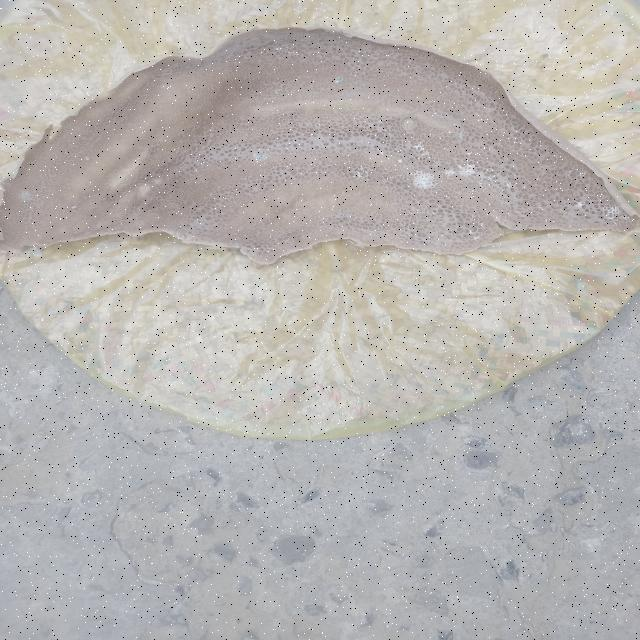injera_mold: (412, 170, 438, 192), (16, 187, 38, 203), (352, 166, 371, 183), (248, 151, 274, 162), (459, 162, 476, 178), (602, 206, 620, 220), (574, 198, 586, 210), (445, 167, 457, 178), (334, 74, 345, 85), (411, 144, 427, 151), (286, 48, 300, 56), (467, 188, 482, 195), (404, 171, 411, 184), (465, 150, 475, 159), (577, 169, 587, 178), (271, 88, 285, 94), (504, 181, 513, 190), (466, 228, 476, 236), (68, 204, 79, 211), (613, 220, 620, 231), (378, 149, 387, 157), (485, 176, 498, 181), (566, 170, 572, 180), (477, 178, 484, 186), (327, 160, 334, 168), (81, 156, 92, 161), (542, 217, 551, 223), (622, 215, 629, 222), (479, 220, 486, 227), (484, 168, 496, 172), (456, 132, 462, 140), (272, 40, 280, 45), (513, 172, 519, 178), (473, 236, 482, 240), (537, 205, 544, 210), (351, 192, 358, 197), (505, 170, 510, 177), (358, 139, 366, 143), (487, 184, 495, 188), (398, 159, 403, 165), (344, 165, 350, 170), (500, 189, 505, 195), (273, 47, 280, 51), (359, 150, 364, 155), (504, 215, 509, 220), (118, 222, 124, 226), (499, 209, 505, 213), (569, 224, 573, 230), (478, 124, 482, 130), (420, 157, 427, 160), (388, 176, 393, 180), (600, 187, 604, 192), (497, 179, 502, 183), (595, 182, 598, 188), (556, 174, 562, 177), (576, 210, 582, 213), (276, 77, 280, 81), (384, 167, 388, 171), (569, 180, 573, 184), (522, 214, 526, 218), (416, 208, 420, 212), (517, 210, 522, 213), (595, 210, 600, 213), (384, 190, 389, 193), (379, 70, 385, 72), (516, 190, 520, 193), (399, 174, 402, 178), (397, 191, 399, 195), (585, 212, 590, 213)
